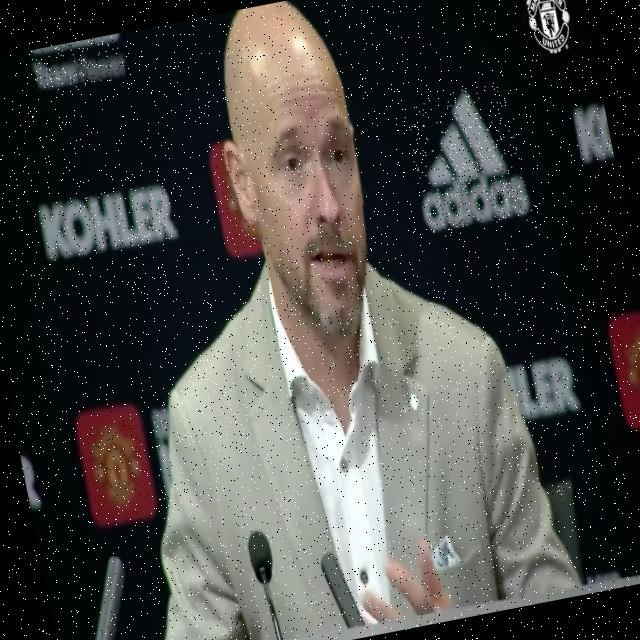Adidas: (402, 81, 534, 240)
Kohler: (37, 179, 179, 263)
TeamViewer: (30, 33, 131, 96)
